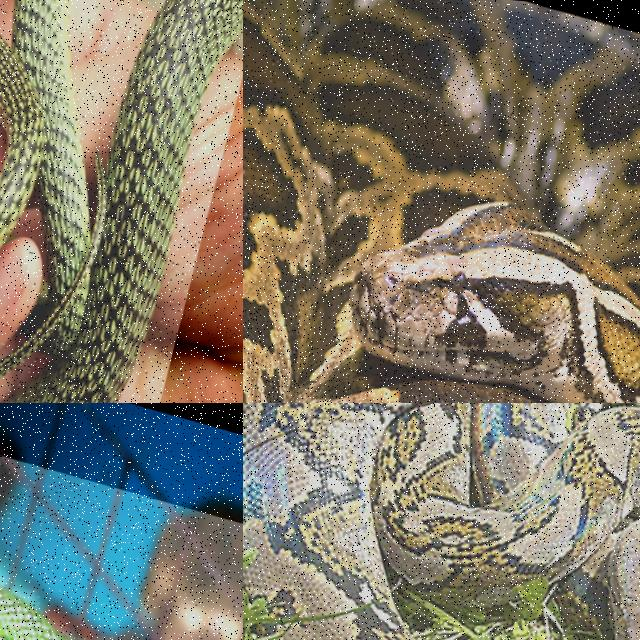Chrysopelea ornata: (0, 0, 242, 402)
Malayopython reticulatus: (243, 403, 639, 639)
Python bivittatus: (243, 0, 639, 402)
Trimeresurus macrops: (0, 588, 70, 639)
snake: (243, 0, 639, 402), (0, 0, 242, 402), (243, 403, 639, 639), (0, 588, 70, 639)
